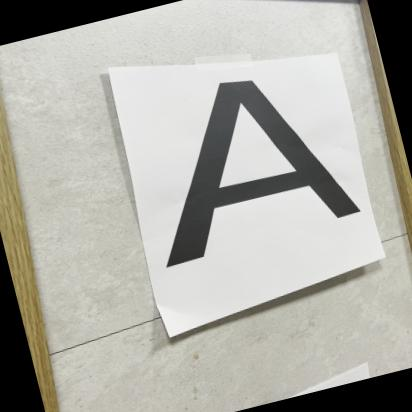seat: (110, 53, 380, 286)
